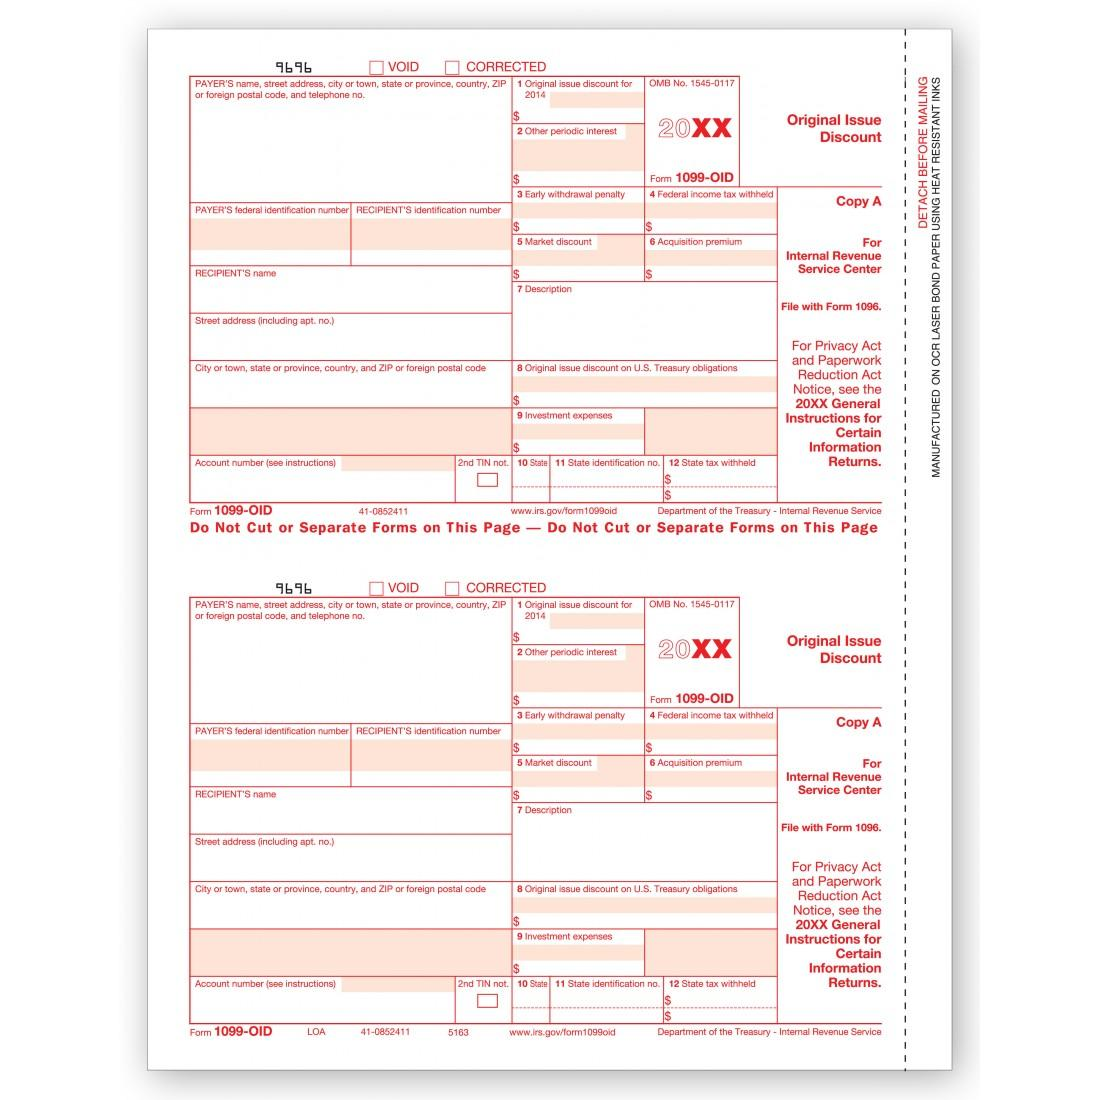checkbox: (473, 989, 501, 1010), (473, 468, 501, 489), (366, 578, 387, 599), (441, 578, 462, 599), (365, 56, 386, 77), (441, 55, 462, 76)
textbox: (186, 72, 519, 208), (186, 593, 519, 729), (509, 797, 780, 884), (508, 277, 779, 364), (185, 780, 515, 841), (187, 825, 517, 886), (185, 873, 515, 934), (185, 261, 518, 317), (186, 308, 519, 364), (186, 356, 516, 411), (509, 356, 783, 413), (188, 969, 459, 1026), (508, 876, 782, 933), (185, 451, 461, 506), (347, 197, 518, 268), (346, 718, 517, 789), (185, 197, 356, 268), (184, 716, 355, 787), (508, 118, 650, 191), (509, 637, 651, 710), (507, 229, 650, 285), (643, 229, 786, 285), (508, 402, 651, 458), (508, 923, 651, 979), (510, 71, 652, 127), (507, 182, 650, 238), (638, 182, 781, 238), (508, 701, 651, 757), (639, 702, 782, 758), (506, 749, 649, 805), (641, 750, 784, 806), (507, 593, 649, 649), (659, 971, 782, 1014), (545, 971, 668, 1011), (659, 450, 780, 491), (547, 450, 668, 491), (546, 478, 667, 507), (544, 1001, 668, 1027), (658, 1000, 782, 1026), (658, 479, 782, 505), (507, 448, 554, 491), (508, 971, 553, 1014), (507, 479, 553, 508), (506, 1002, 557, 1027)
